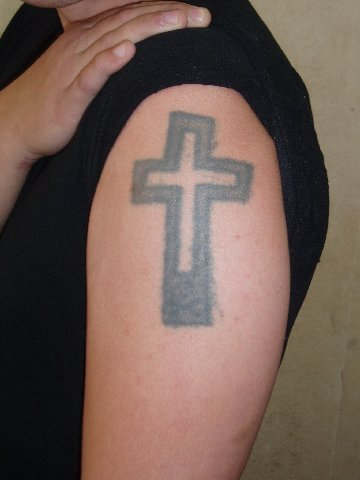tatu9_krest: (133, 112, 258, 345)
